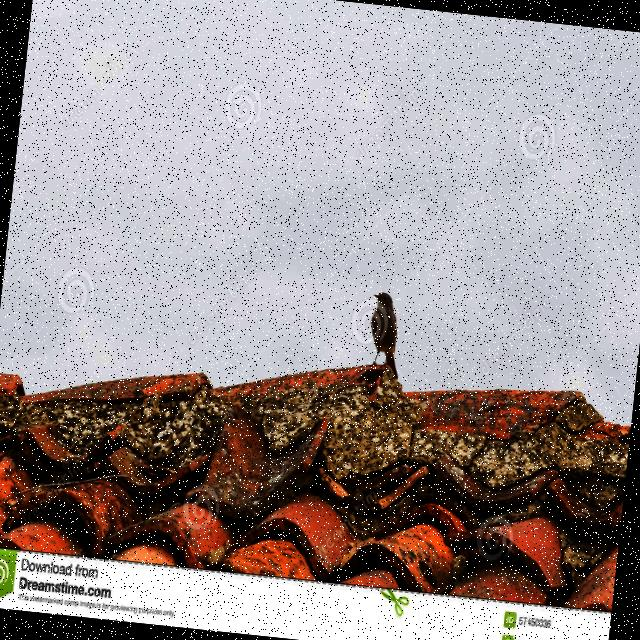bird: (361, 288, 409, 382)
